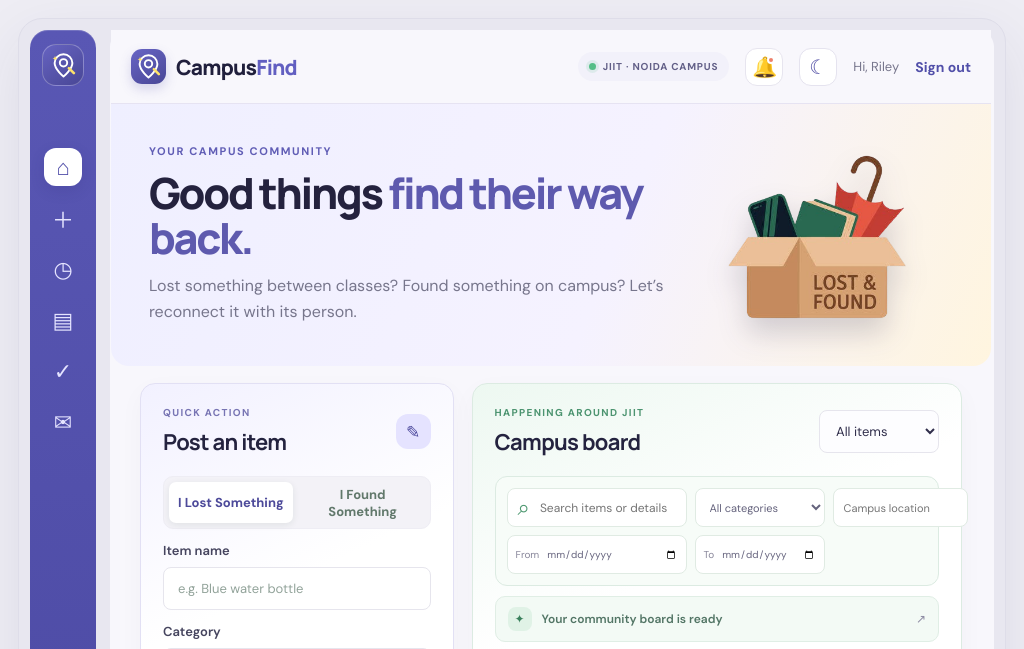
it: CampusFind board › shows match notifications and marks them read when opened
Click the button named "Notifications, 1 unread": (764, 66) [745, 48, 783, 86]
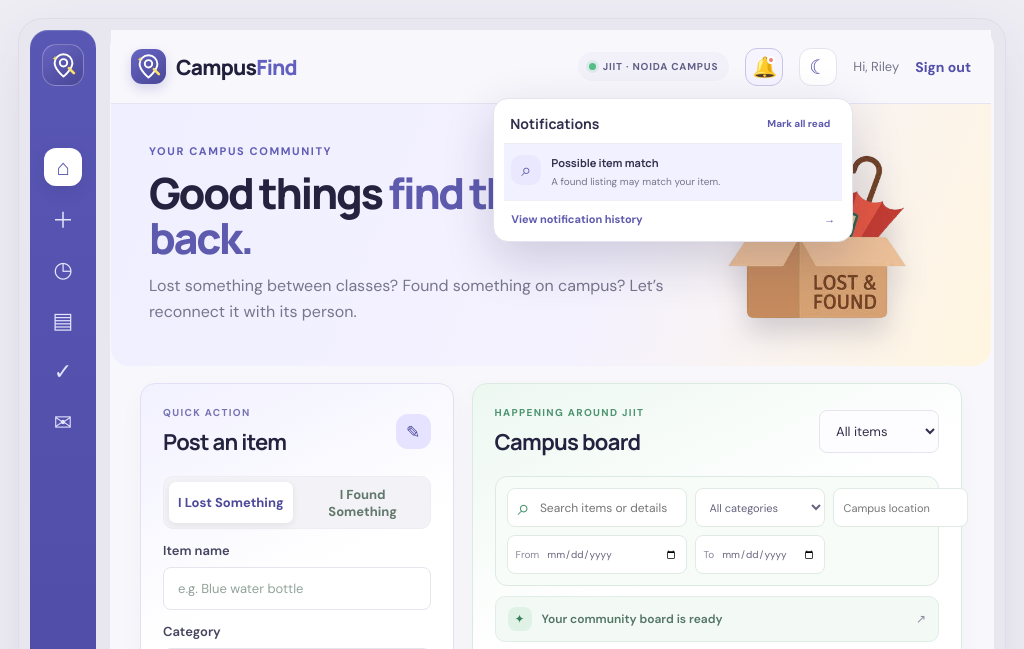
Click the button "⌕ Possible item match A found listing may match your item.": (673, 172) [504, 144, 842, 200]
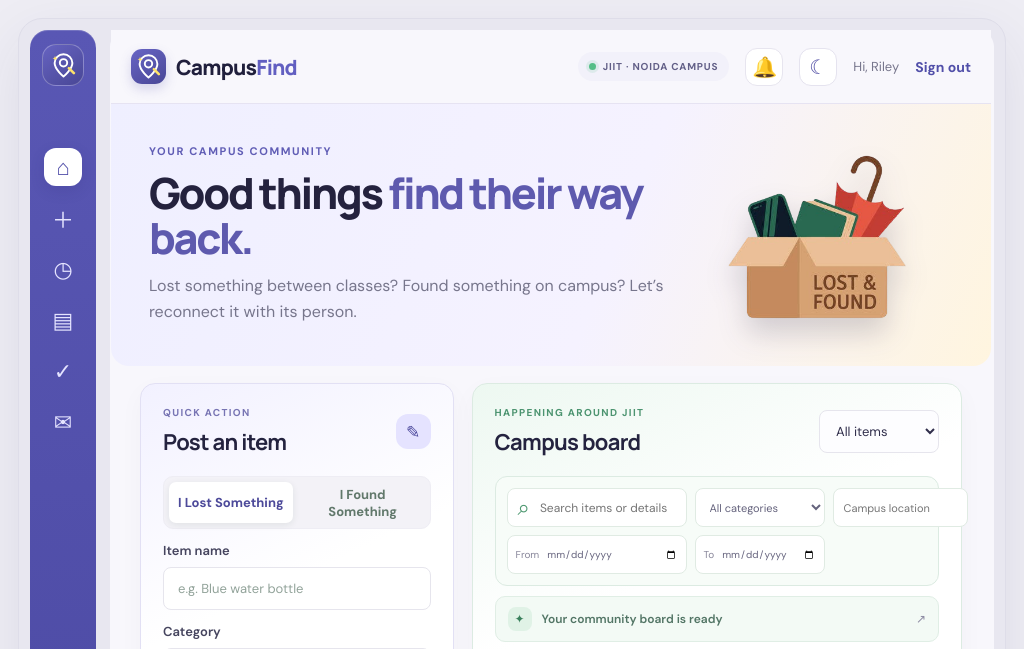
Now the button named "Notifications, 0 unread" is shown, box [745, 48, 783, 86]
